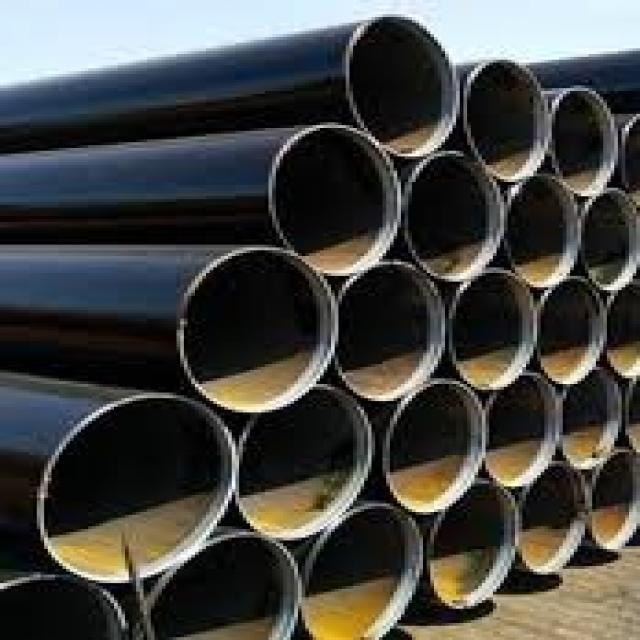pipe: (37, 393, 238, 584), (181, 249, 338, 414), (239, 387, 373, 542), (273, 127, 400, 276), (302, 510, 424, 640), (351, 17, 456, 156), (339, 265, 445, 402), (387, 385, 486, 515), (407, 157, 505, 282), (430, 486, 515, 610), (453, 274, 539, 392), (469, 61, 545, 183), (487, 378, 564, 488), (509, 176, 582, 288), (520, 465, 587, 574), (520, 467, 587, 575), (541, 280, 608, 386), (556, 89, 616, 198), (565, 371, 623, 471), (584, 191, 640, 292)
